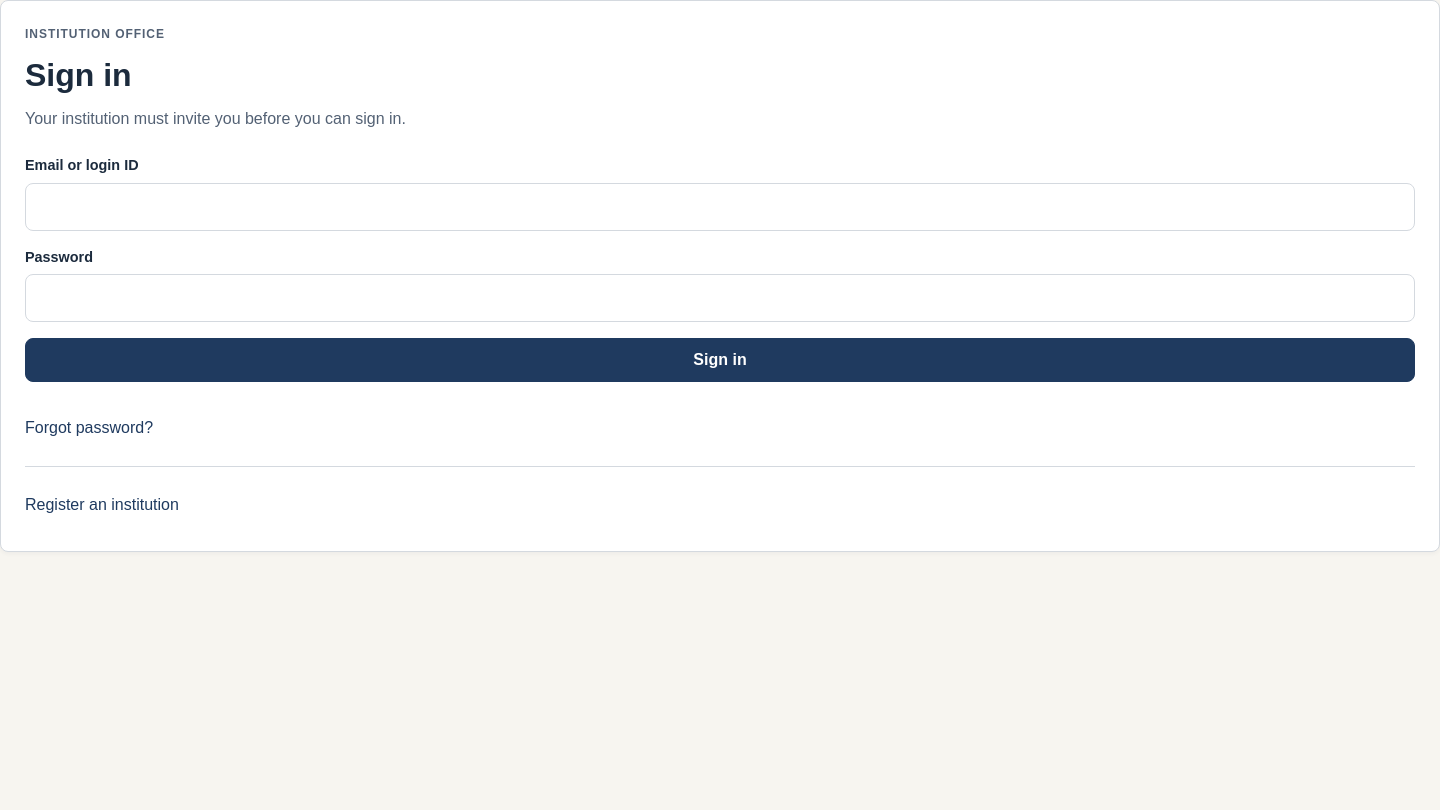
it: invite-only login › validates required identity before making a request
This screenshot has width=1440, height=810.
Click the button "Sign in": (720, 360) [25,338,1415,382]
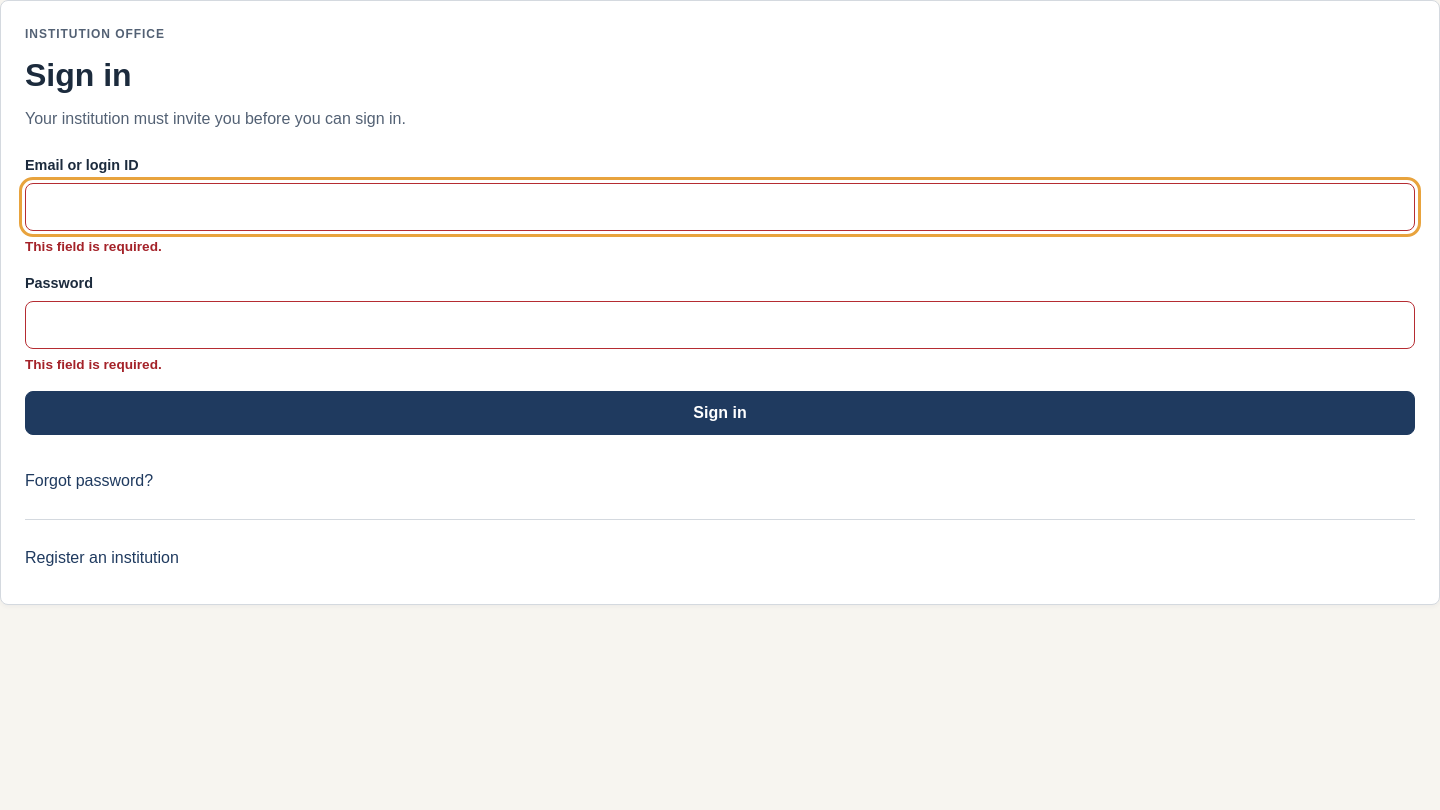
Result: the text "This field is required." is shown 2 times at [25,239,162,254]; [25,357,162,372]
